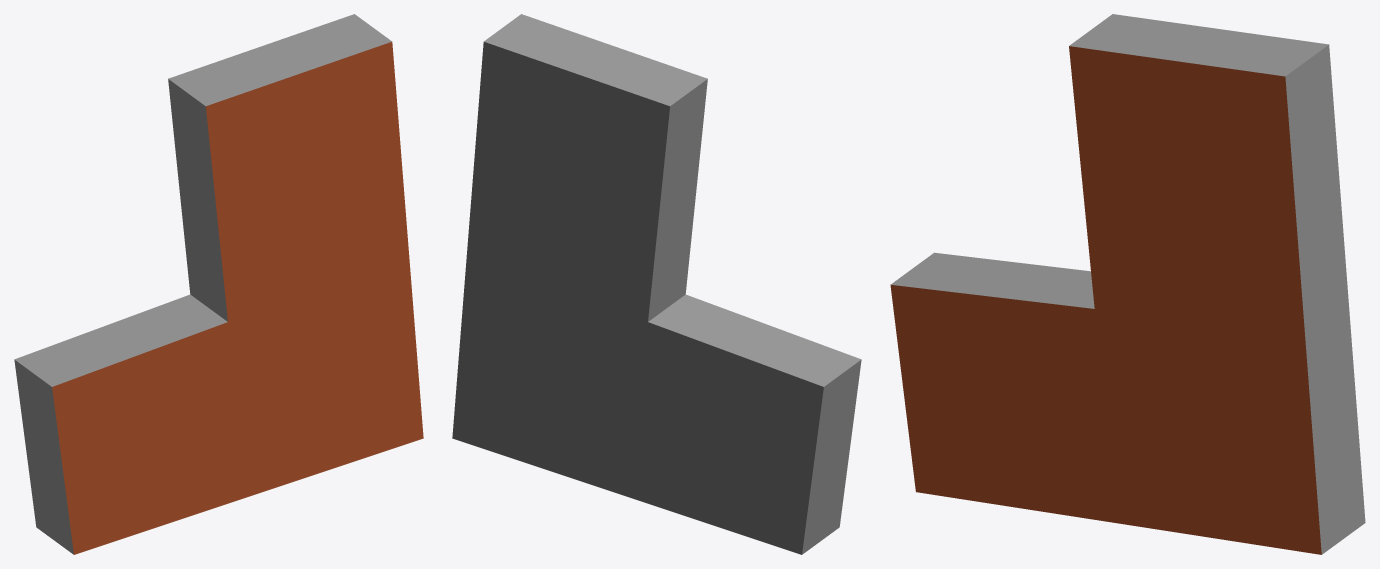
The model's file is construction_2059_assumed_A_Casa_h6m.obj.
The picture shows the model from 3 angles, left to right: view 1: azimuth 30°, elevation 25°; view 2: azimuth 150°, elevation 25°; view 3: azimuth 330°, elevation 25°; orthographic projection. The views are drawn at different scales.
Parts seen in each view (by area): view 1: construction_2059_assumed_A_Casa; view 2: construction_2059_assumed_A_Casa; view 3: construction_2059_assumed_A_Casa.
Part boxes in pixels (x1,y1,x2,y2): construction_2059_assumed_A_Casa: (14, 14, 423, 554); construction_2059_assumed_A_Casa: (452, 14, 861, 554); construction_2059_assumed_A_Casa: (890, 14, 1365, 554).
Bounding box in the file's own units: 34.13 × 38.24 × 6.
